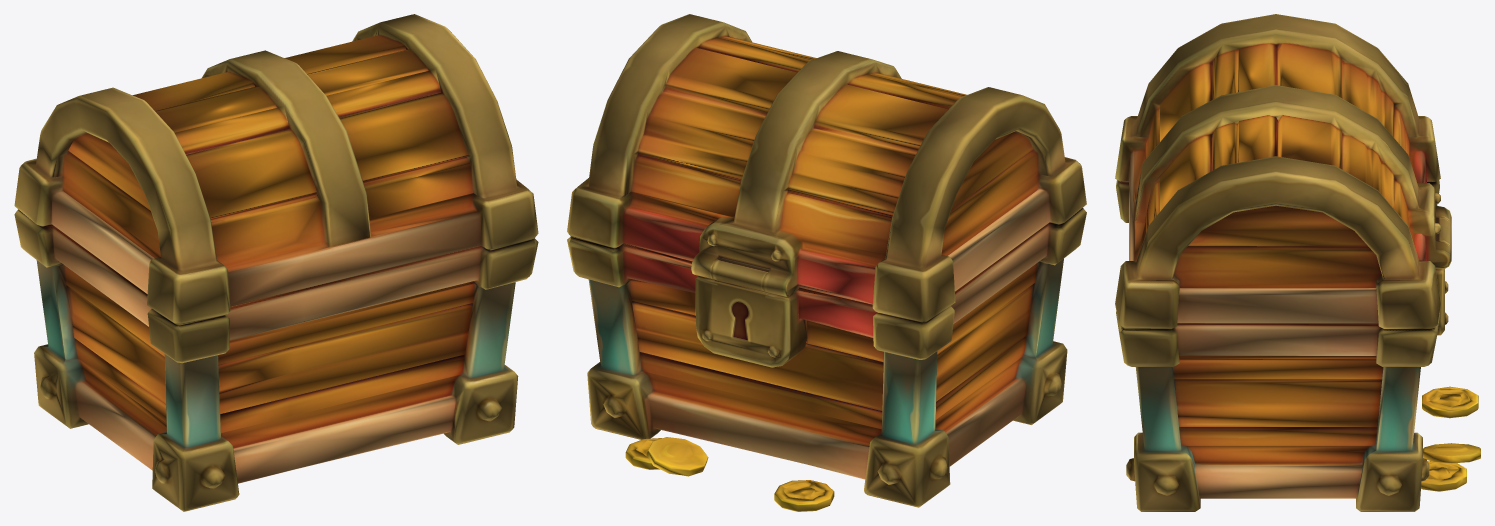
Rendered from treasure_chest.glb.
3 renders of one model, left to right at view 1: azimuth 30°, elevation 25°; view 2: azimuth 150°, elevation 25°; view 3: azimuth 270°, elevation 25°, orthographic. The views are drawn at different scales.
Visible parts, largest first — view 1: treasure_chest; view 2: treasure_chest; view 3: treasure_chest.
Part boxes in pixels (<box>): treasure_chest: <box>14,14,538,511</box>; treasure_chest: <box>567,14,1086,511</box>; treasure_chest: <box>1115,14,1480,511</box>.
Size of the model in its own units: 3.68 by 3.4 by 3.27.
Materials: 1 (1 with a texture image).
